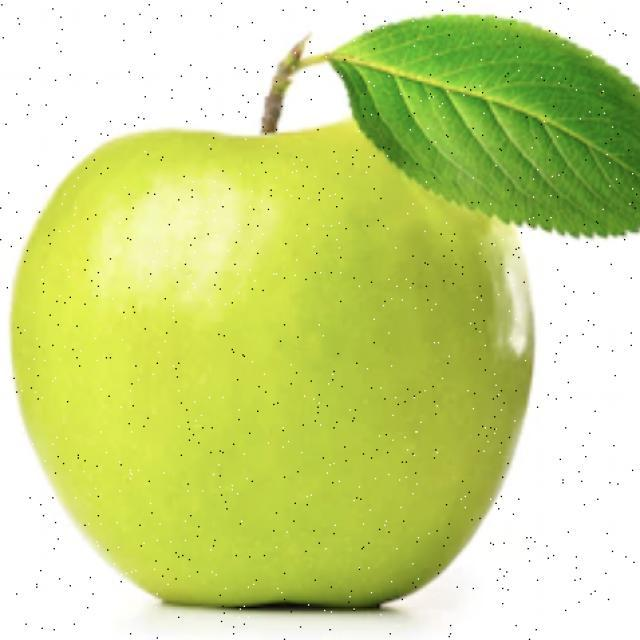Fresh Apple: (42, 127, 523, 618)
